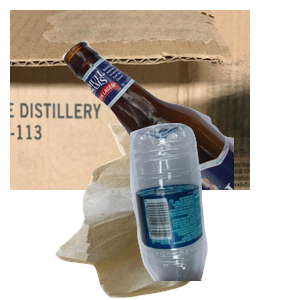cardboard: (10, 10, 250, 190)
glass: (60, 38, 300, 218)
plastic: (127, 120, 300, 300)
trash: (53, 121, 239, 300)
